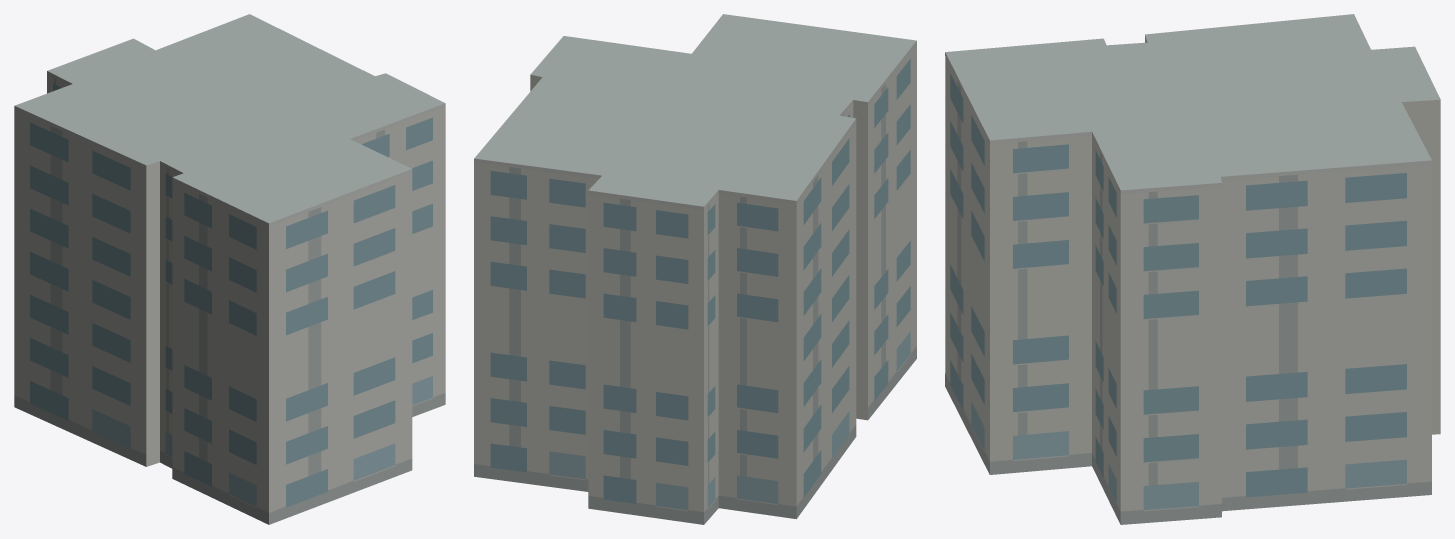
Rendered from survey-upis-32573522.glb.
3 renders of one model, left to right at view 1: azimuth 30°, elevation 25°; view 2: azimuth 150°, elevation 25°; view 3: azimuth 270°, elevation 25°, orthographic. The views are drawn at different scales.
Visible parts, largest first — view 1: survey-upis-32573522.tmp; view 2: survey-upis-32573522.tmp; view 3: survey-upis-32573522.tmp.
Part boxes in pixels (x1,y1,x2,y2): survey-upis-32573522.tmp: (14, 14, 445, 524); survey-upis-32573522.tmp: (474, 14, 916, 524); survey-upis-32573522.tmp: (945, 14, 1440, 524).
Bounding box in the file's own units: 23.65 × 20.9 × 28.07.
